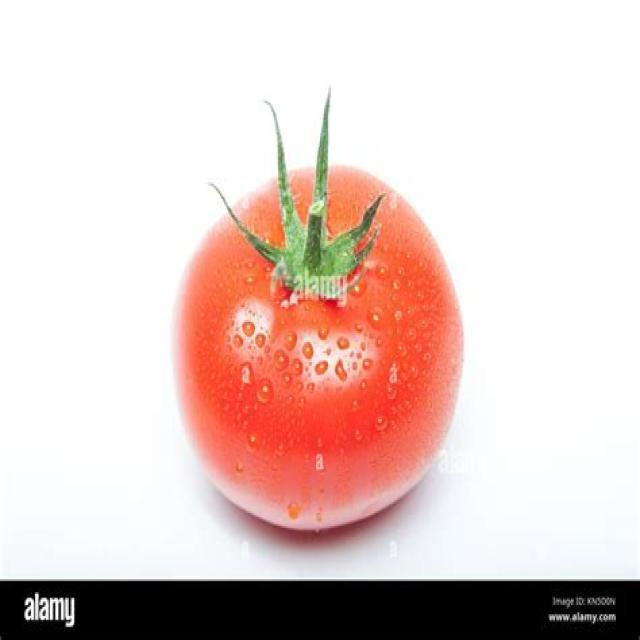Tomato: (171, 116, 465, 535)
